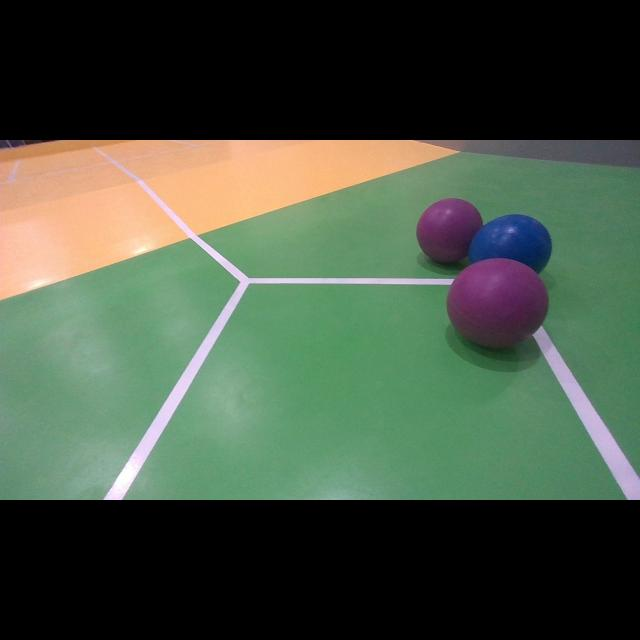B: (469, 214, 553, 274)
P: (447, 258, 549, 348), (416, 198, 484, 266)
